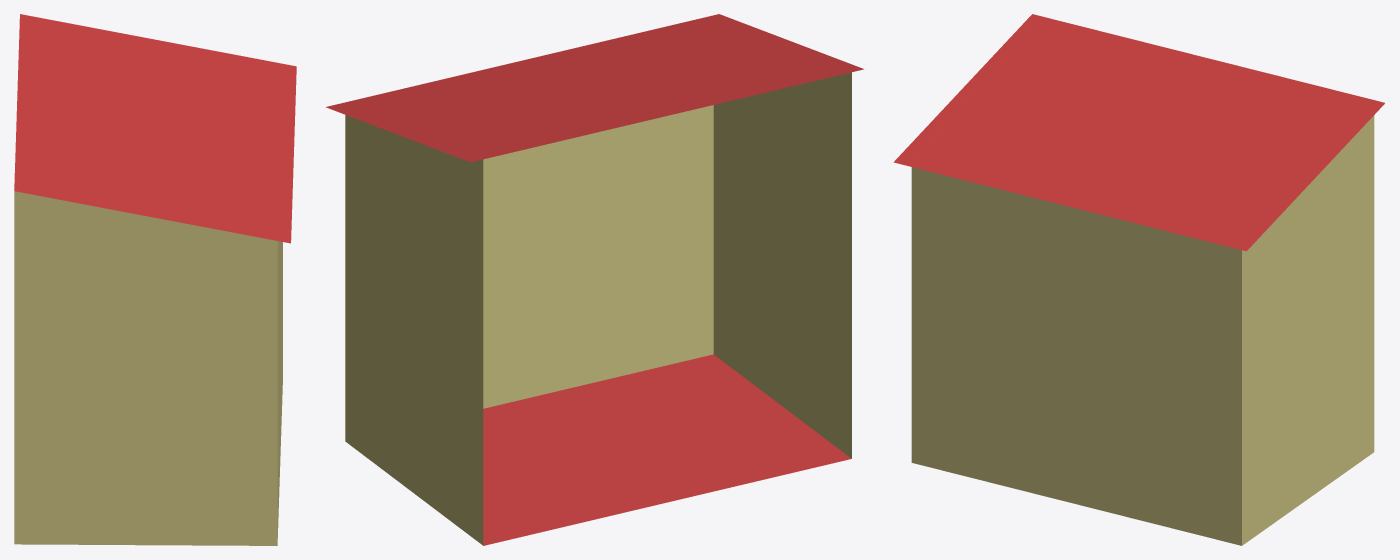
3 views of the same model, side by side, from view 1: azimuth 30°, elevation 25°; view 2: azimuth 150°, elevation 25°; view 3: azimuth 270°, elevation 25° (orthographic). The views are drawn at different scales.
Size of the model in its own units: 8.29 by 9.2 by 7.26.
